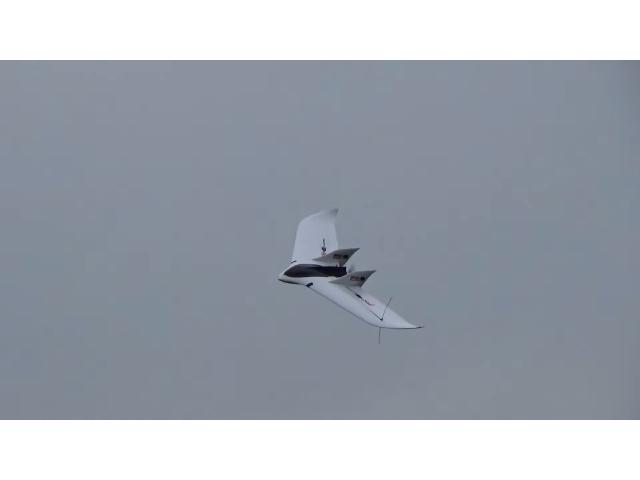Anti-Drone: (279, 208, 425, 328)
